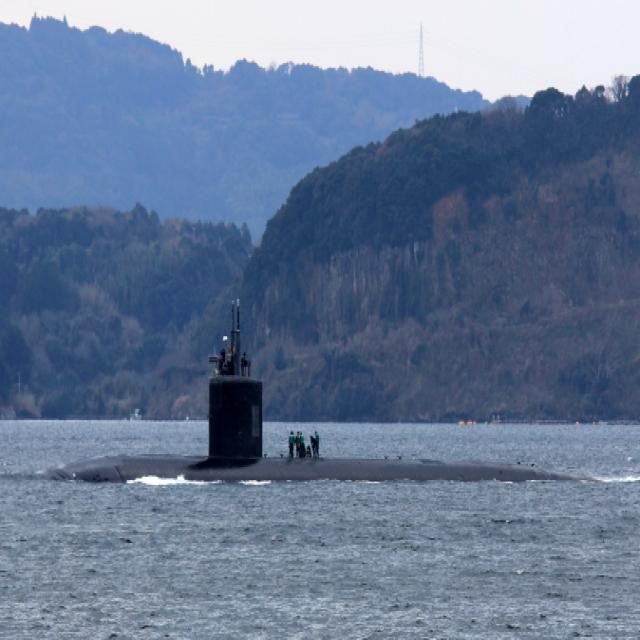submarine: (64, 292, 640, 481)
